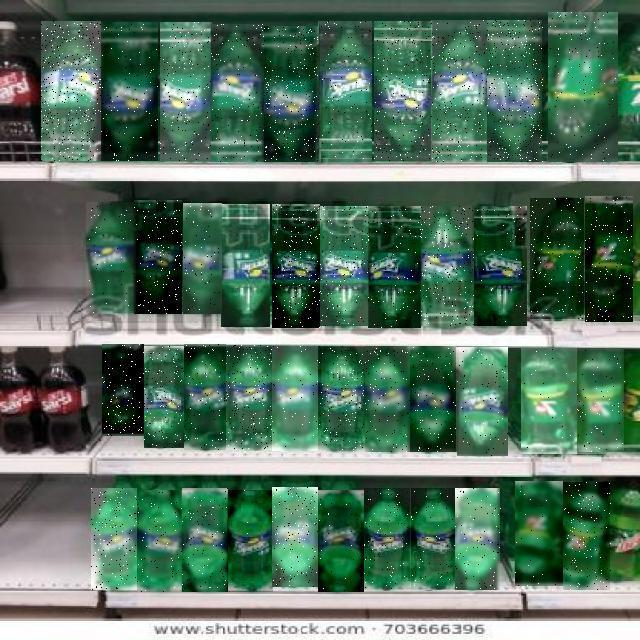Drinks: (548, 12, 618, 162), (41, 21, 101, 161), (374, 21, 432, 161), (100, 22, 158, 161), (488, 20, 544, 162), (431, 20, 487, 162), (319, 22, 373, 162), (212, 24, 266, 162), (266, 26, 320, 162), (160, 22, 212, 161), (531, 198, 585, 319), (473, 206, 527, 326), (420, 206, 474, 326), (368, 206, 421, 328), (585, 196, 633, 322), (221, 204, 270, 327), (272, 204, 320, 328), (521, 348, 577, 454), (320, 206, 369, 326), (457, 347, 508, 456), (86, 202, 136, 313), (135, 200, 183, 314), (564, 482, 612, 590), (515, 482, 563, 588), (578, 348, 626, 452), (412, 346, 458, 452), (366, 346, 412, 452), (319, 346, 365, 452), (273, 346, 319, 451), (226, 345, 272, 450), (183, 488, 229, 592), (91, 488, 137, 590), (137, 490, 183, 592), (227, 490, 273, 592), (318, 490, 364, 592), (364, 488, 410, 590), (411, 488, 457, 590), (456, 488, 502, 590), (273, 487, 319, 587), (185, 345, 227, 451), (183, 203, 222, 314), (144, 346, 184, 448), (102, 344, 144, 436)
